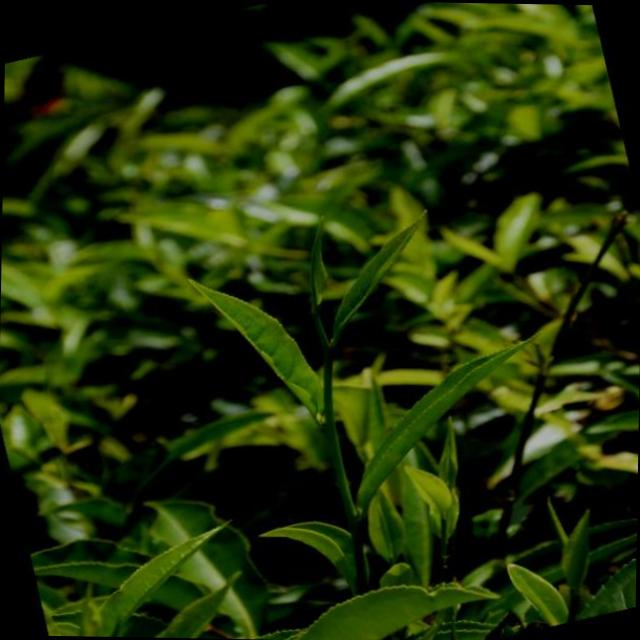Stem: (325, 346, 332, 360)
